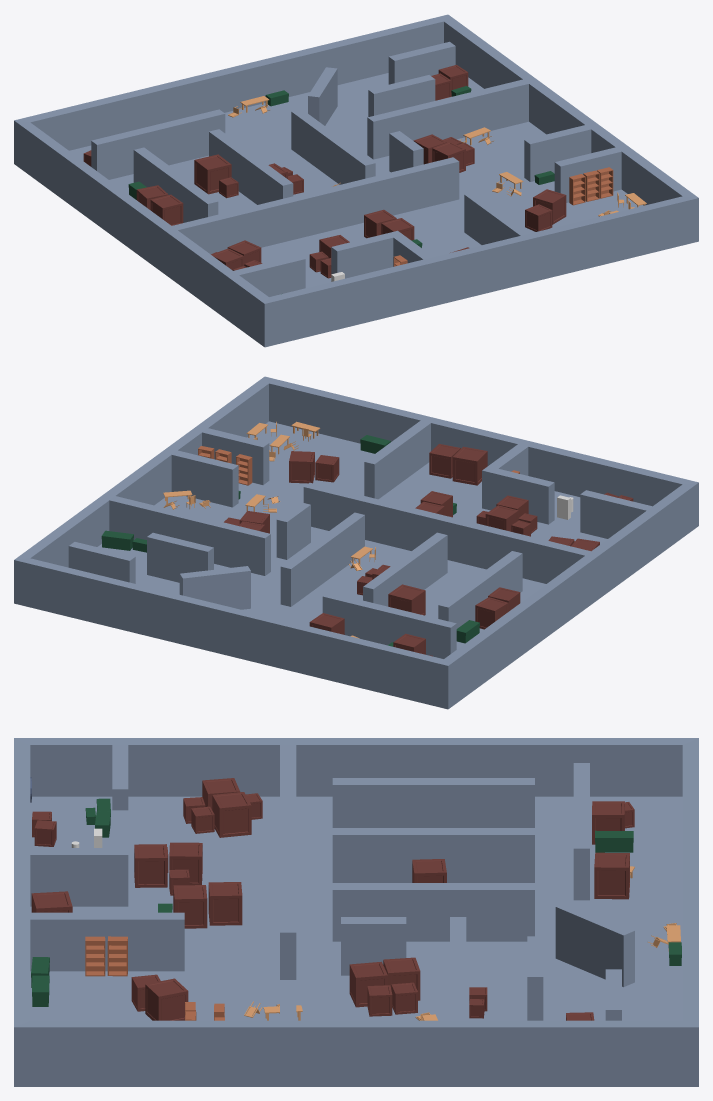
Rendered from MainGameMap.fbx.
The picture shows the model from 3 angles, top to bottom: view 1: azimuth 30°, elevation 25°; view 2: azimuth 150°, elevation 25°; view 3: azimuth 270°, elevation 25°; orthographic projection. The views are drawn at different scales.
Parts seen in each view (by area): view 1: GameArea, Big Wooden Crate.022, Big Wooden Crate.030, Big Wooden Crate.016, Big Wooden Crate.017, Big Wooden Crate.019, Big Wooden Crate.007; view 2: GameArea, Big Wooden Crate.010, Big Wooden Crate.022, Big Wooden Crate.016, Big Wooden Crate.009, Big Wooden Crate.029, Big Wooden Crate.001, Big Wooden Crate.017, Military Crates.011, Big Wooden Crate.035; view 3: GameArea, Big Wooden Crate.035, Big Wooden Crate.011, Big Wooden Crate.016, Big Wooden Crate.007, Big Wooden Crate, Big Wooden Crate.008, Big Wooden Crate.019, Big Wooden Crate.001, Big Wooden Crate.033, Big Wooden Crate.018, Military Crates.013 (+11 smaller).
Boxes of the visible parts, left/top/right/bottom form: GameArea: left=14, top=14, right=698, bottom=347; Big Wooden Crate.022: left=194, top=154, right=231, bottom=194; Big Wooden Crate.030: left=150, top=194, right=183, bottom=225; Big Wooden Crate.016: left=533, top=189, right=566, bottom=224; Big Wooden Crate.017: left=525, top=204, right=552, bottom=231; Big Wooden Crate.019: left=432, top=141, right=465, bottom=172; Big Wooden Crate.007: left=364, top=209, right=396, bottom=238; GameArea: left=14, top=376, right=698, bottom=709; Big Wooden Crate.010: left=452, top=446, right=487, bottom=485; Big Wooden Crate.022: left=388, top=584, right=425, bottom=615; Big Wooden Crate.016: left=289, top=451, right=314, bottom=483; Big Wooden Crate.009: left=429, top=444, right=460, bottom=478; Big Wooden Crate.029: left=475, top=597, right=508, bottom=629; Big Wooden Crate.001: left=485, top=505, right=518, bottom=531; Big Wooden Crate.017: left=315, top=455, right=339, bottom=482; Military Crates.011: left=101, top=530, right=133, bottom=550; Big Wooden Crate.035: left=309, top=613, right=344, bottom=634; GameArea: left=14, top=738, right=698, bottom=1086; Big Wooden Crate.035: left=594, top=852, right=629, bottom=899; Big Wooden Crate.011: left=212, top=792, right=251, bottom=837; Big Wooden Crate.016: left=145, top=978, right=188, bottom=1020; Big Wooden Crate.007: left=208, top=882, right=242, bottom=925; Big Wooden Crate: left=134, top=844, right=167, bottom=887; Big Wooden Crate.008: left=173, top=885, right=207, bottom=928; Big Wooden Crate.019: left=349, top=961, right=387, bottom=1007; Big Wooden Crate.001: left=169, top=842, right=202, bottom=885; Big Wooden Crate.033: left=592, top=801, right=624, bottom=844; Big Wooden Crate.018: left=383, top=957, right=420, bottom=1000; Military Crates.013: left=595, top=830, right=633, bottom=852.
Size of the model in its own units: 4200 by 403 by 4200.
1 material, 1 textured.
